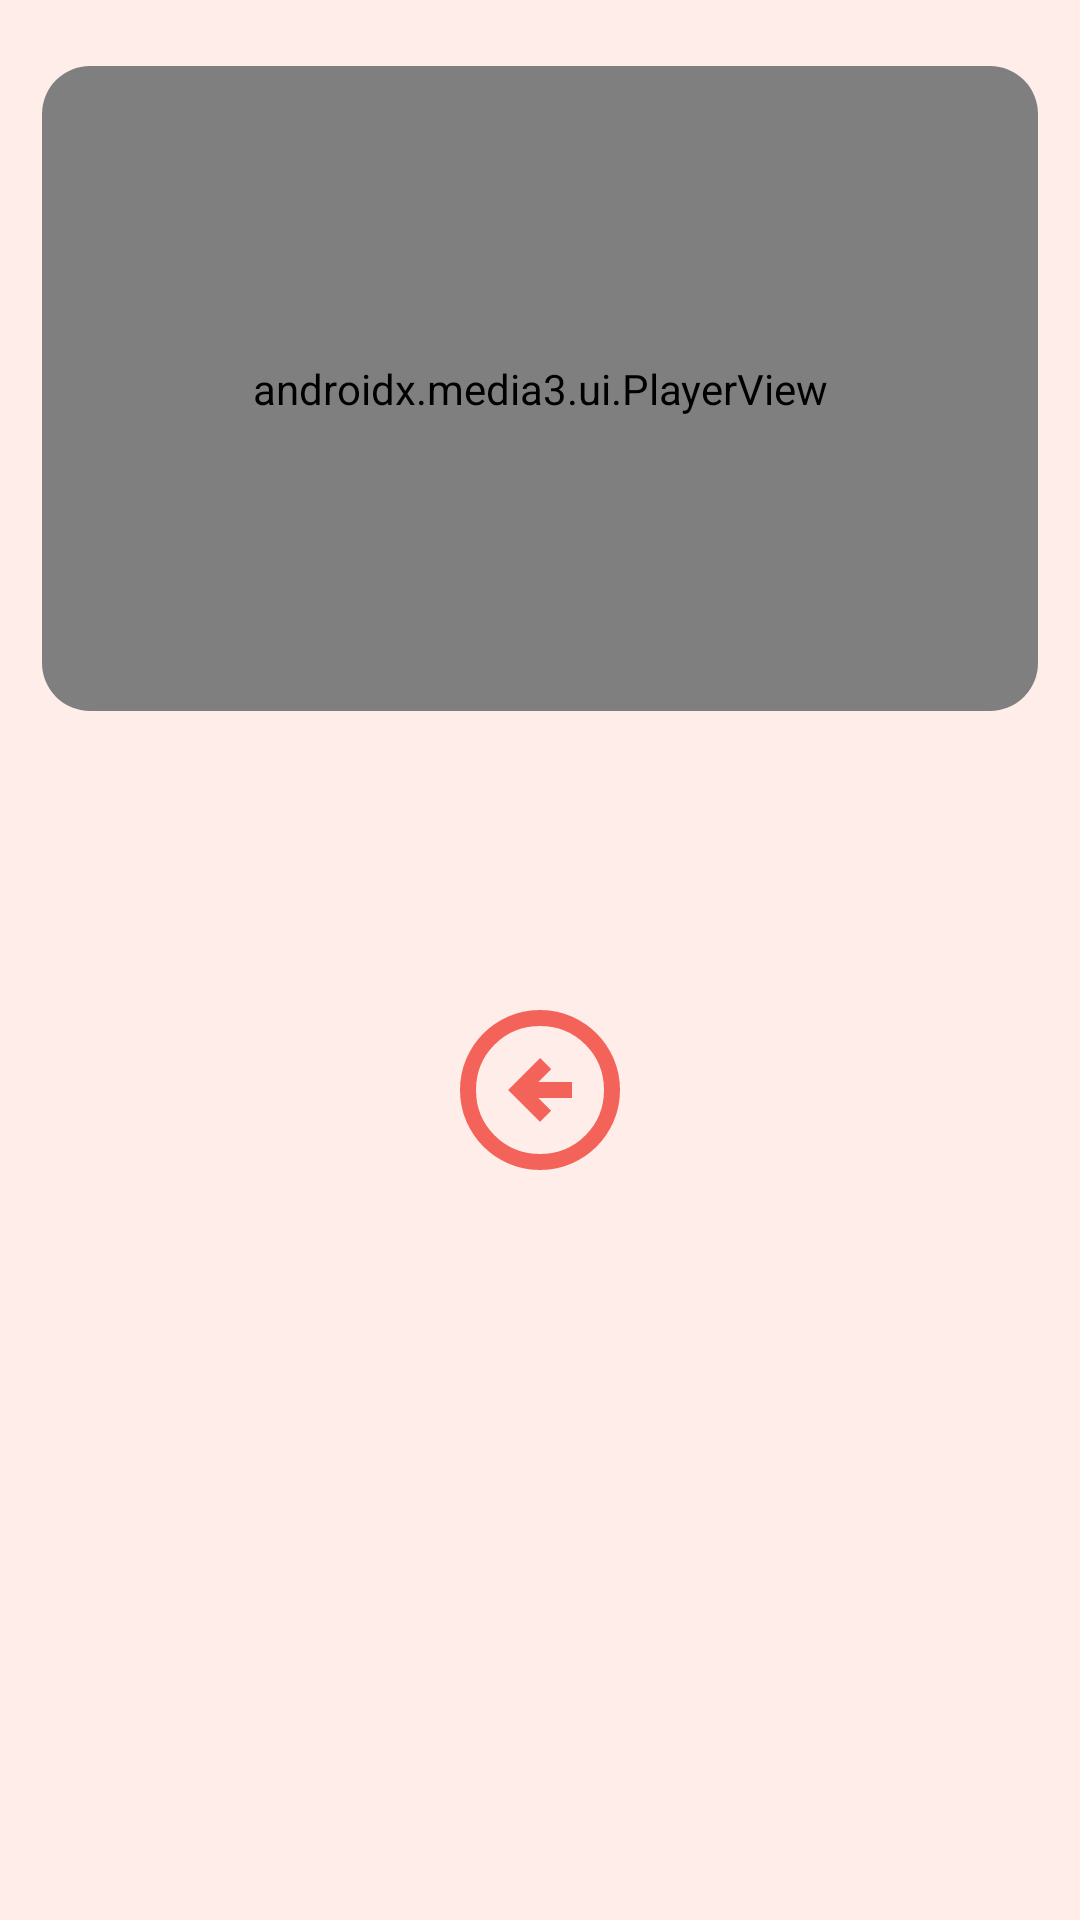

Where to tap for icons on this 1080×1920 app screen, as (x,y):
Назад: (540,1090)
